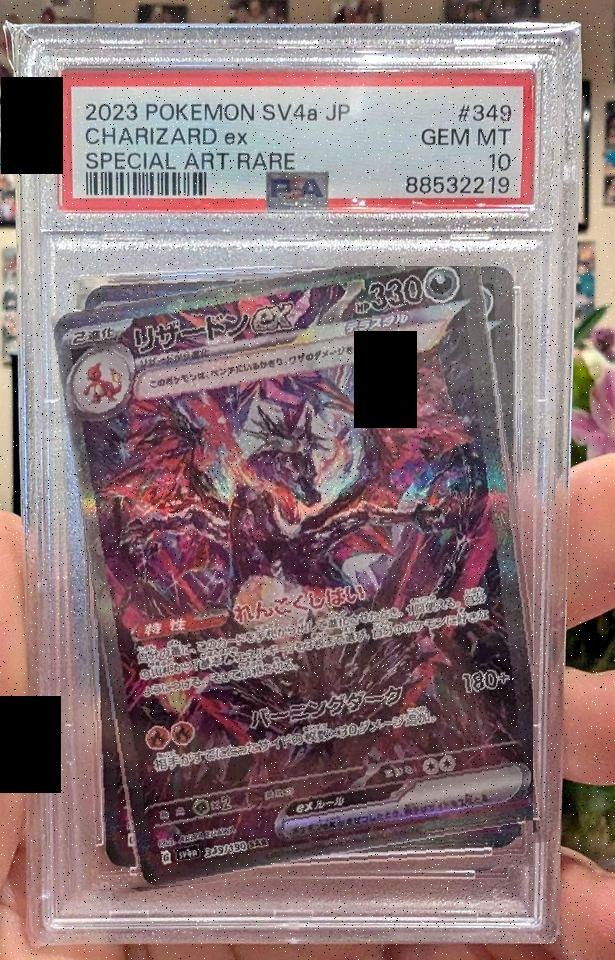card: (54, 266, 533, 886)
